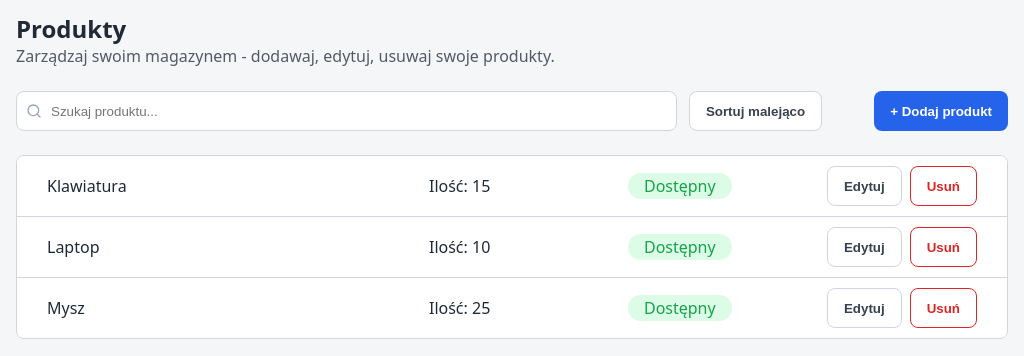
Test: shows a message when searching for a product that does not exist
Type "Monitor" into the search field at point(346, 111), box [16,91,677,131]
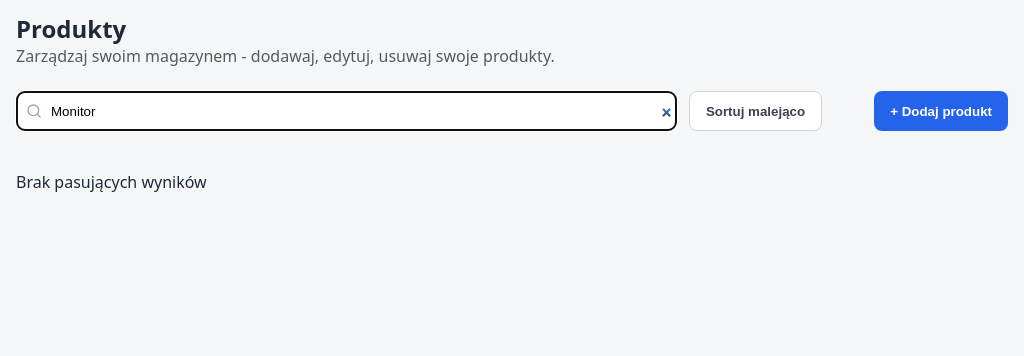
Now the text "Brak pasujących wyników" is shown, box [16,171,207,193]
